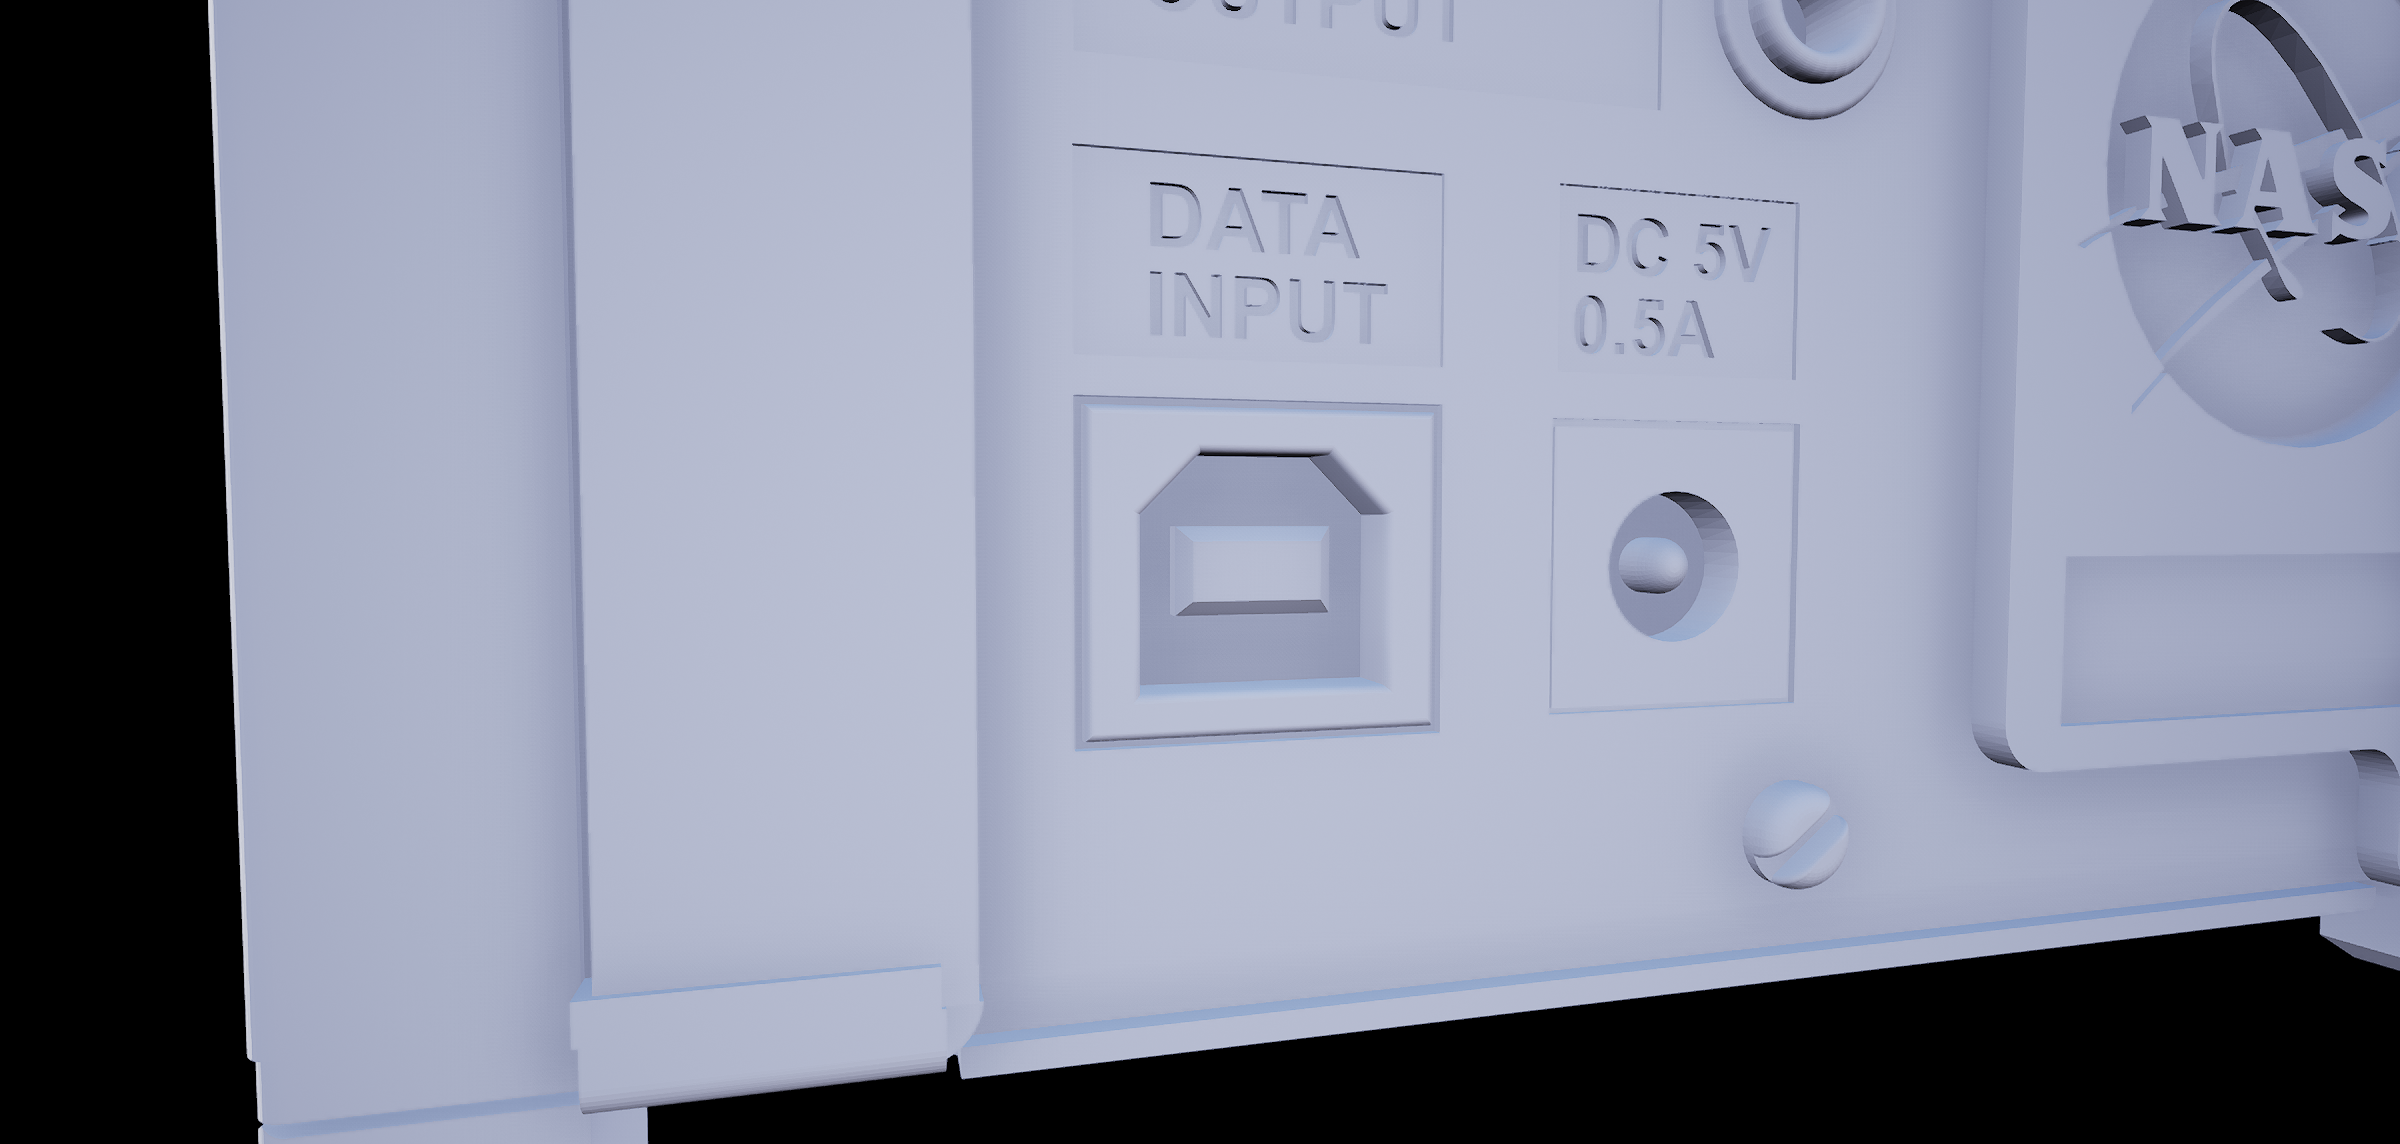aux: (1701, 2, 1945, 129)
dc: (1596, 476, 1756, 662)
usb: (1130, 432, 1408, 706)
